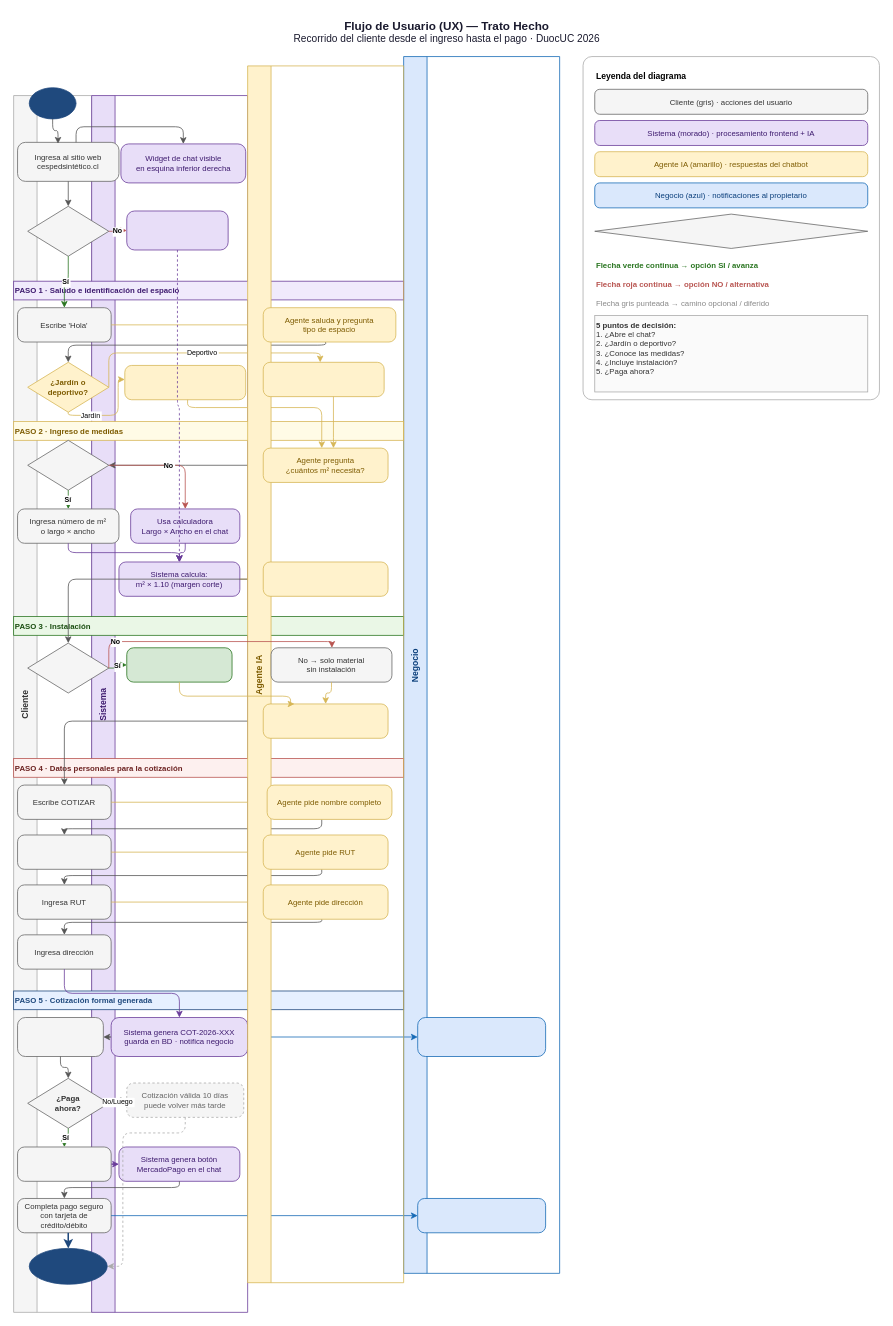
Some shapes in this 893 by 1326 pixel diagram are drawn without their labels. Here are the shapes that lost their labels. From the top down, the centre of each, then its label:
At (52,103): "Inicio".
At (68,231): "¿Abre el chat?".
At (177,230): "Usa calculadora directa de m²".
At (731,230): "Rombo (decisión) · punto de elección del usuario".
At (185,382): "Jardín / terraza → Pasto Básico o Premium".
At (323,379): "Cancha deportiva → Pasto Deportivo".
At (68,465): "¿Conoce medidas?".
At (325,578): "Muestra subtotal y pregunta instalación".
At (68,667): "¿Incluye instalación?".
At (179,664): "Sí → +$4.500/m² incluido en total".
At (325,720): "Agente muestra TOTAL y pide escribir COTIZAR".
At (64,851): "Ingresa nombre".
At (60,1037): "Recibe QuoteCard con número · m² · total CLP".
At (481,1037): "Recibe alerta Telegram + Gmail".
At (64,1163): "Escribe: quiero pagar".
At (481,1215): "Negocio recibe notificación pago confirmado".
At (67,1266): "Fin Pedido coordinado".
